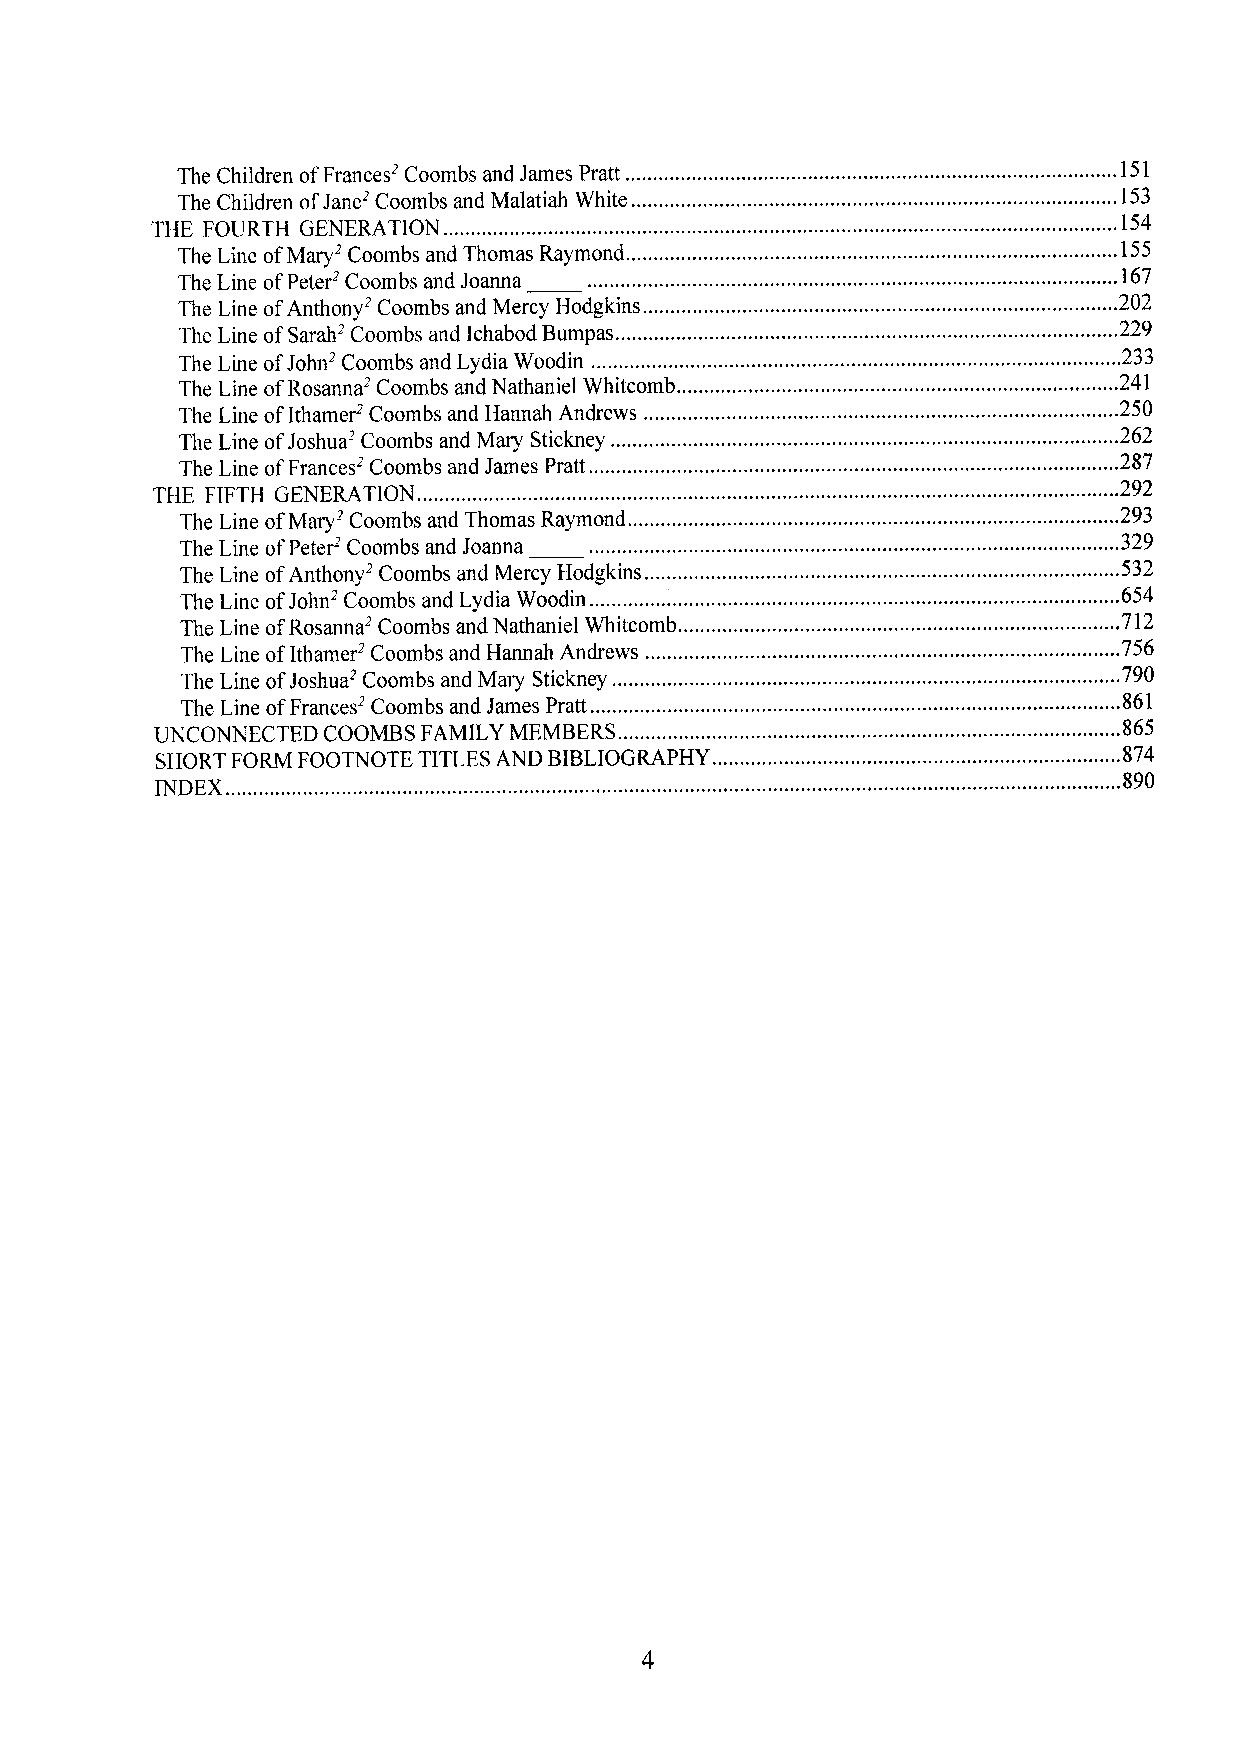TOC_chapter: (173, 157, 623, 184), (153, 747, 709, 768), (174, 377, 676, 399), (173, 401, 637, 424), (176, 428, 604, 452), (174, 242, 625, 264), (176, 297, 640, 318), (180, 641, 640, 663), (176, 616, 679, 635), (150, 721, 619, 741), (178, 323, 612, 345), (173, 189, 629, 209), (176, 456, 584, 478), (178, 564, 643, 582), (178, 670, 605, 690), (172, 588, 585, 608), (178, 697, 586, 717), (176, 533, 525, 556), (177, 352, 585, 370), (177, 511, 625, 527), (176, 270, 521, 290), (148, 215, 442, 236), (149, 479, 413, 501), (150, 774, 223, 800)
TOC_pagenumber: (1118, 474, 1155, 498), (1117, 154, 1151, 180), (1117, 633, 1154, 656), (1118, 688, 1155, 711), (1119, 556, 1155, 578), (1121, 527, 1154, 552), (1117, 396, 1154, 417), (1118, 315, 1153, 338), (1122, 769, 1157, 792), (1119, 263, 1155, 285), (1117, 503, 1153, 525), (1119, 183, 1153, 205), (1121, 609, 1154, 632), (1121, 662, 1155, 683), (1117, 238, 1153, 258), (1121, 344, 1154, 365), (1121, 715, 1154, 737), (1119, 584, 1157, 603), (1118, 450, 1153, 470), (1121, 424, 1153, 446), (1118, 212, 1153, 231), (1117, 372, 1153, 389), (1123, 743, 1154, 764), (1119, 290, 1151, 309)
